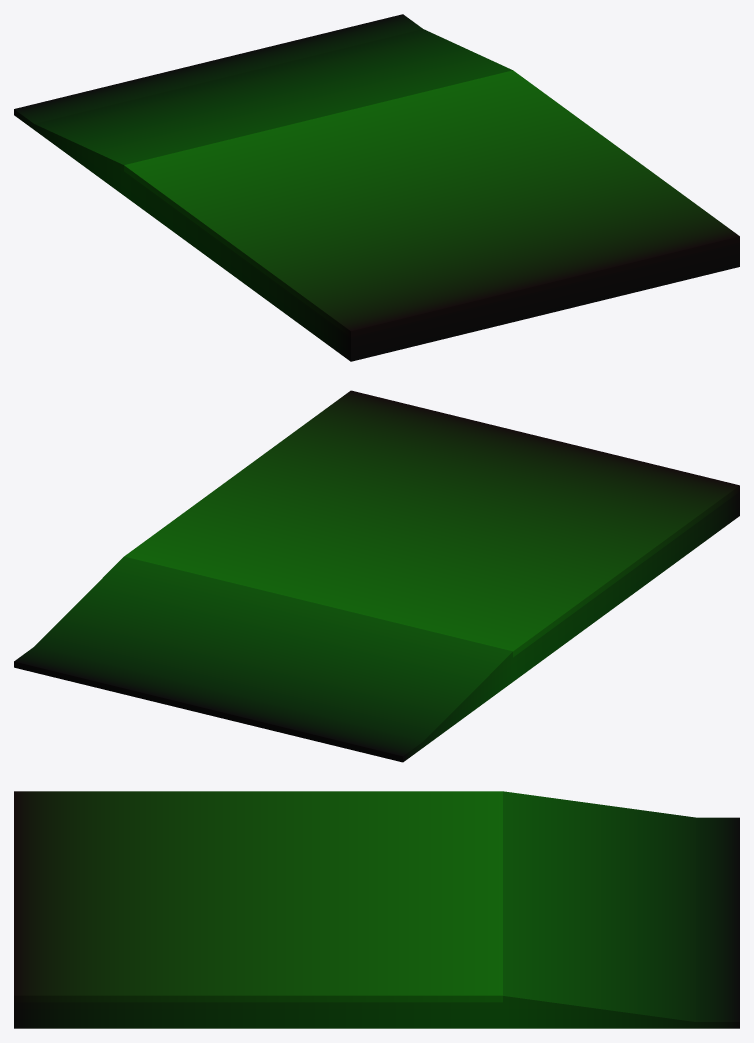
The model's file is via_he_ram.mid.glb.
3 views of the same model, one above another, from view 1: azimuth 30°, elevation 25°; view 2: azimuth 150°, elevation 25°; view 3: azimuth 270°, elevation 25° (orthographic). The views are drawn at different scales.
Visible parts, largest first — view 1: via_he_ram; view 2: via_he_ram; view 3: via_he_ram.
Boxes of the visible parts, x1,y1,x2,y2 form: via_he_ram: [14, 14, 739, 361]; via_he_ram: [14, 390, 739, 762]; via_he_ram: [14, 791, 739, 1028].
Bounding box in the file's own units: 2 × 0.15 × 3.
